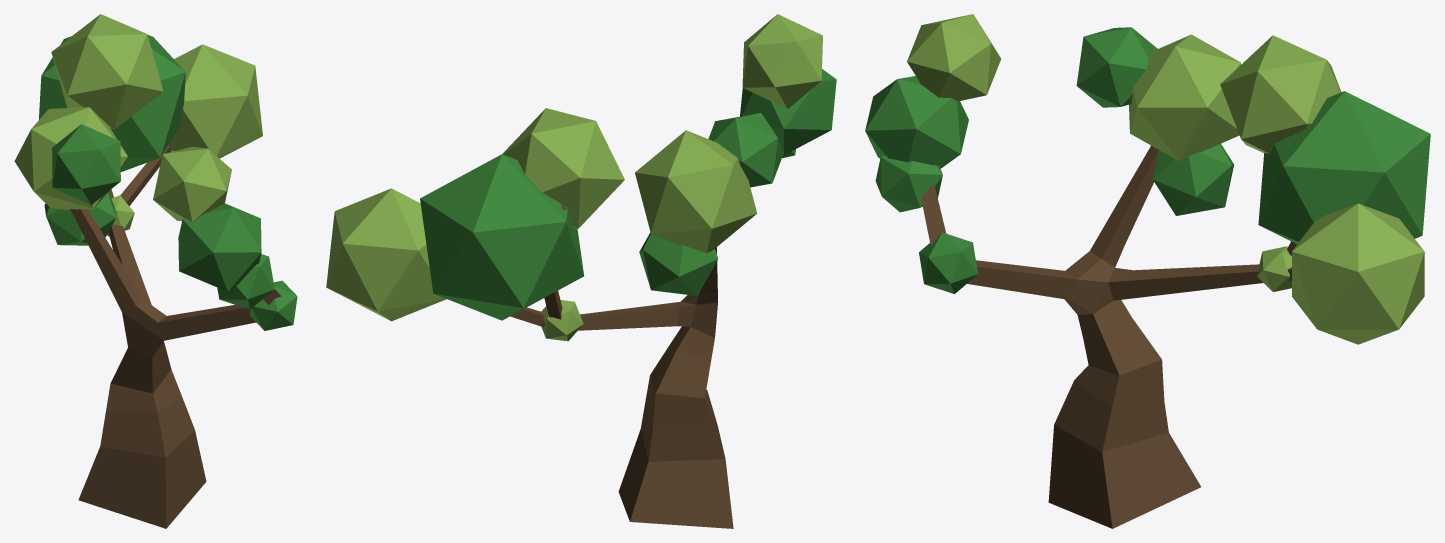
The model's file is Tree.fbx.
The picture shows the model from 3 angles, left to right: view 1: azimuth 30°, elevation 25°; view 2: azimuth 150°, elevation 25°; view 3: azimuth 270°, elevation 25°; orthographic projection. The views are drawn at different scales.
Visible parts, largest first — view 1: Cube; view 2: Cube; view 3: Cube.
Part boxes in pixels (x1,y1,x2,y2): Cube: (14,14,297,528); Cube: (326,14,836,528); Cube: (865,14,1430,528).
Bounding box in the file's own units: 520 × 676 × 725.
